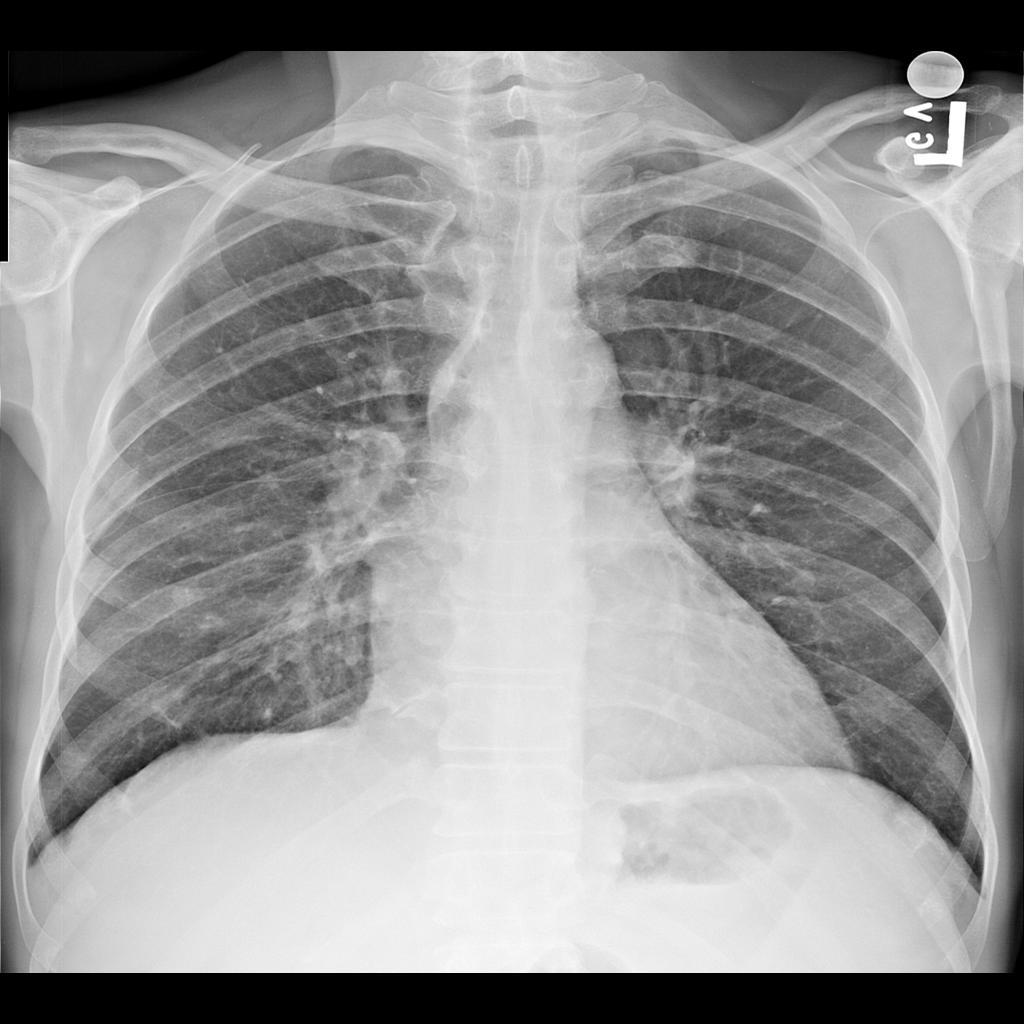Nodule: (170, 586, 197, 608)
